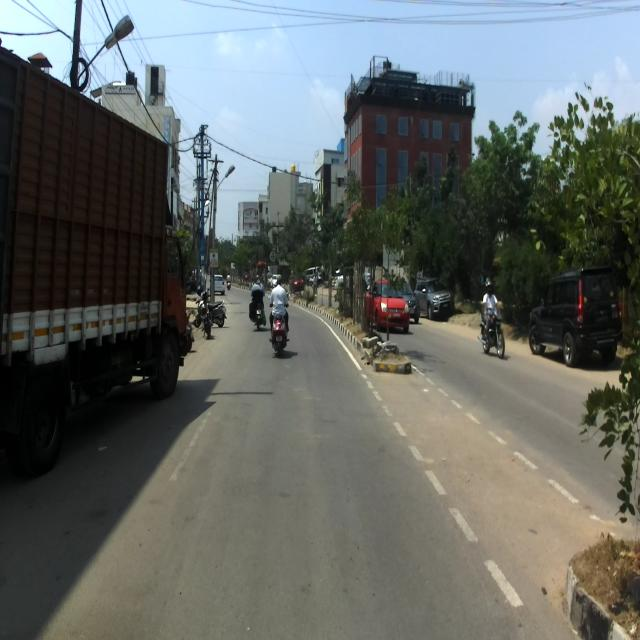truck ahead at: (0, 52, 196, 464)
